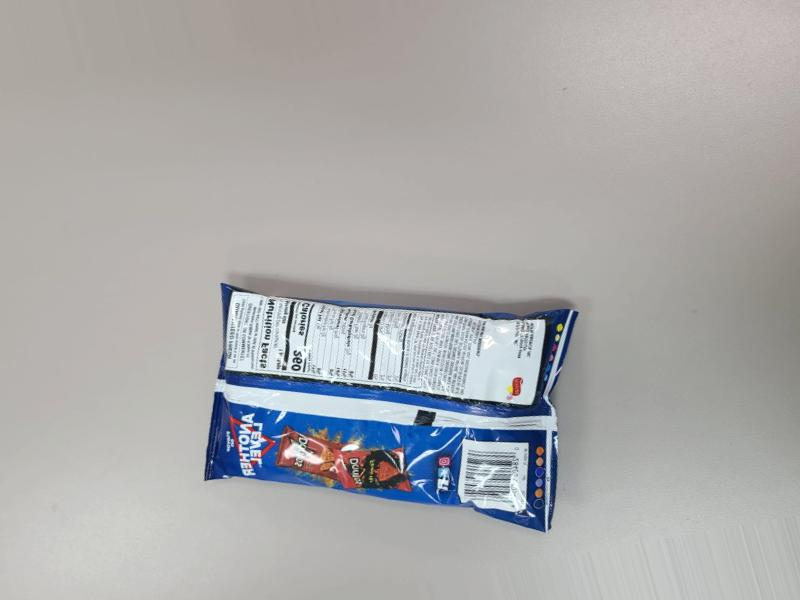doritos: (217, 271, 569, 540)
